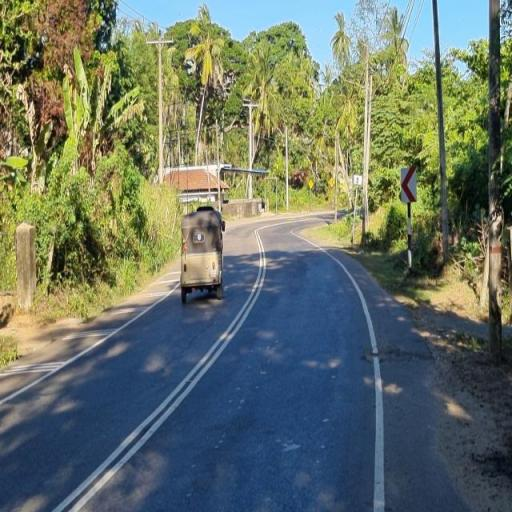double_white_line: (48, 222, 270, 512)
